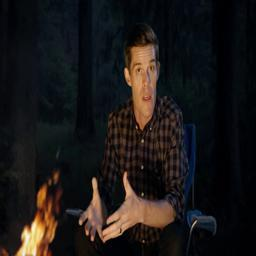fire: (17, 173, 63, 256)
